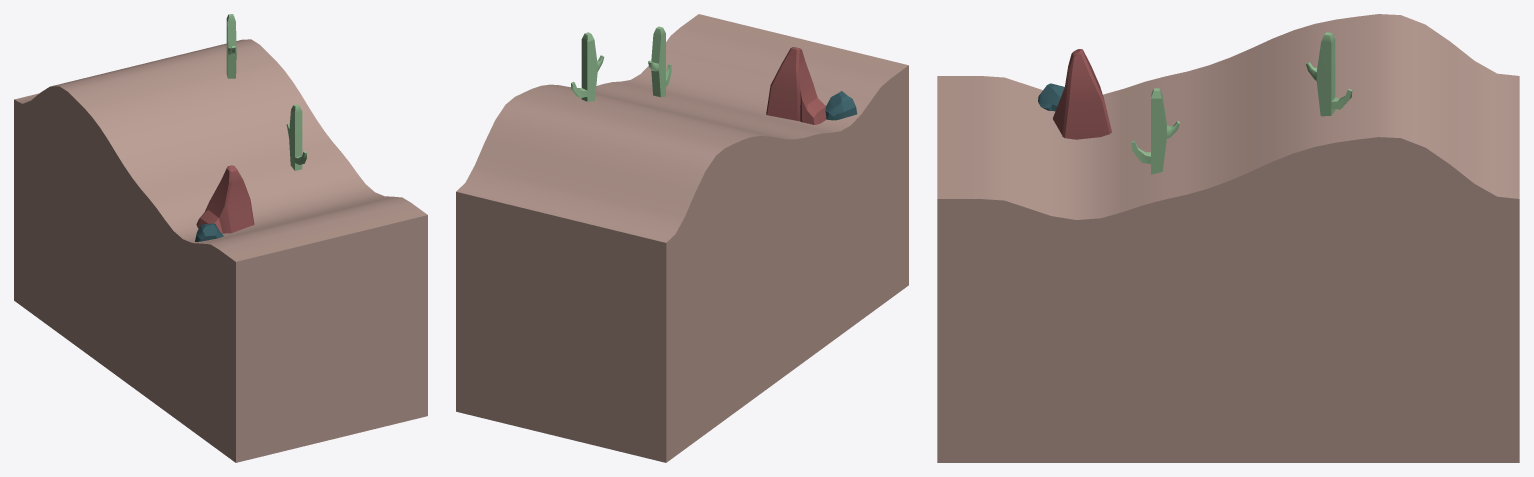
File: New-Land-SLOPE_LEFT.fbx
3 views of the same model, side by side, from view 1: azimuth 30°, elevation 25°; view 2: azimuth 150°, elevation 25°; view 3: azimuth 270°, elevation 25° (orthographic). The views are drawn at different scales.
Visible parts, largest first — view 1: Land_Modules:Slope_Right, Rock__3_pCube2, pCube13, pCube12; view 2: Land_Modules:Slope_Right, Rock__3_pCube2, pCube12, pCube13, pCube11; view 3: Land_Modules:Slope_Right, Rock__3_pCube2, pCube12, pCube13.
Boxes of the visible parts, x1,y1,x2,y2 form: Land_Modules:Slope_Right: [14, 39, 427, 462]; Rock__3_pCube2: [196, 165, 254, 233]; pCube13: [286, 104, 306, 170]; pCube12: [226, 14, 236, 78]; Land_Modules:Slope_Right: [456, 14, 908, 462]; Rock__3_pCube2: [766, 47, 826, 124]; pCube12: [571, 32, 604, 101]; pCube13: [648, 26, 671, 97]; pCube11: [825, 91, 857, 120]; Land_Modules:Slope_Right: [937, 14, 1519, 462]; Rock__3_pCube2: [1052, 49, 1111, 139]; pCube12: [1306, 32, 1352, 116]; pCube13: [1131, 88, 1179, 174].
Size of the model in its own units: 1000 by 1510 by 2000.
